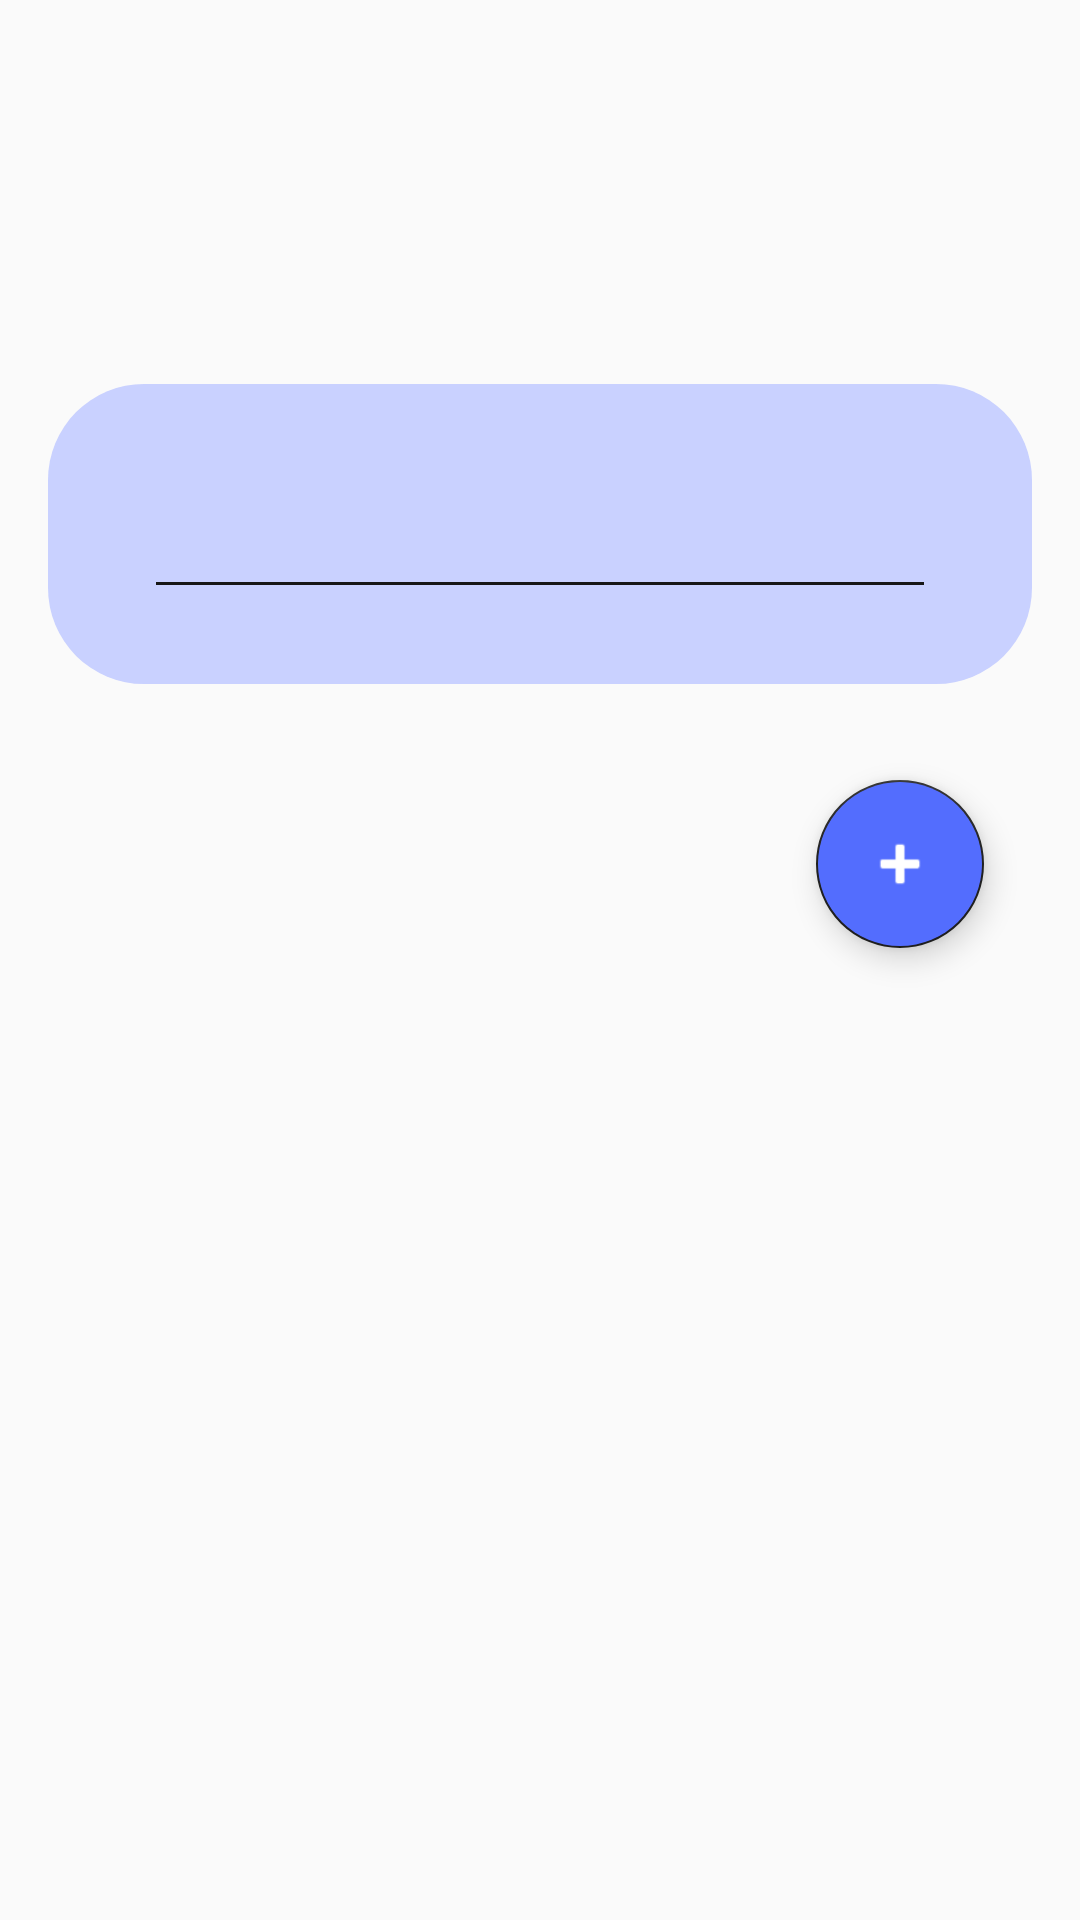

Icons on this 1080px×1920px Android screen, each with the point to tap as point (x, y):
add: point (900, 864)
